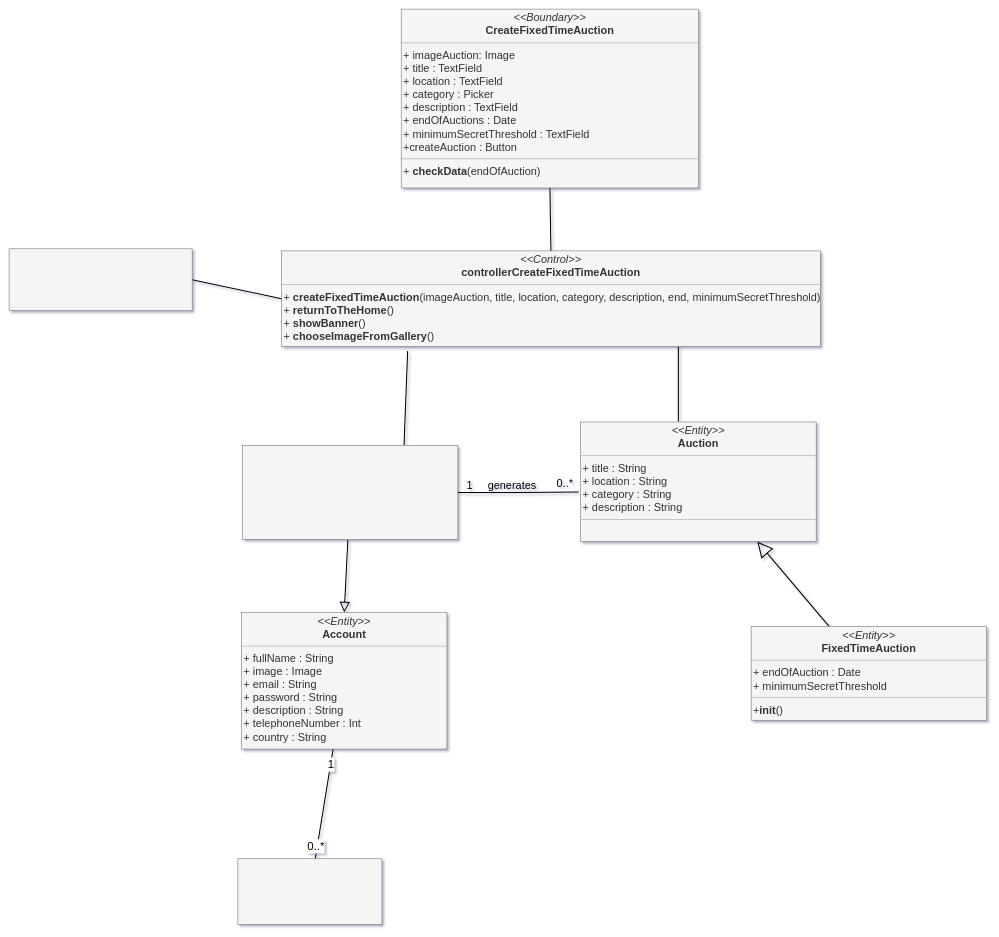
Image size: 999x937. Some labels were removed from this diagram. Here are the shapes that lost their labels. From the top down, the box of each, then its label:
(9, 248, 192, 311): <<Boundary>> FeedBackToCreateAuction + message : Text
(242, 445, 458, 540): <<Entity>> Seller + getListFixedTimeAuctions () + addNewFixedTimeAuction ()
(237, 858, 382, 924): <<Entity>> SocialLinks + link : String
